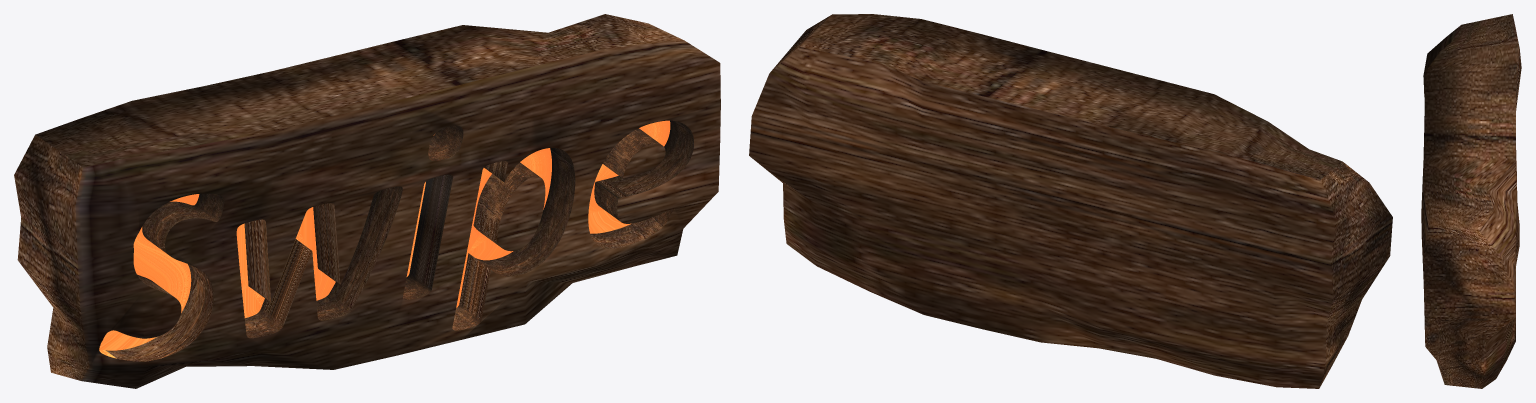
Rendered from swipe.glb.
The picture shows the model from 3 angles, left to right: view 1: azimuth 30°, elevation 25°; view 2: azimuth 150°, elevation 25°; view 3: azimuth 270°, elevation 25°; orthographic projection. The views are drawn at different scales.
Parts seen in each view (by area): view 1: Cube; view 2: Cube; view 3: Cube.
Part boxes in pixels (box(x1,y1,x2,y2)): Cube: box(14, 14, 720, 388); Cube: box(749, 14, 1392, 388); Cube: box(1421, 14, 1521, 388).
Size of the model in its own units: 2.02 by 0.7763 by 0.3839.
2 materials, 2 textured.
